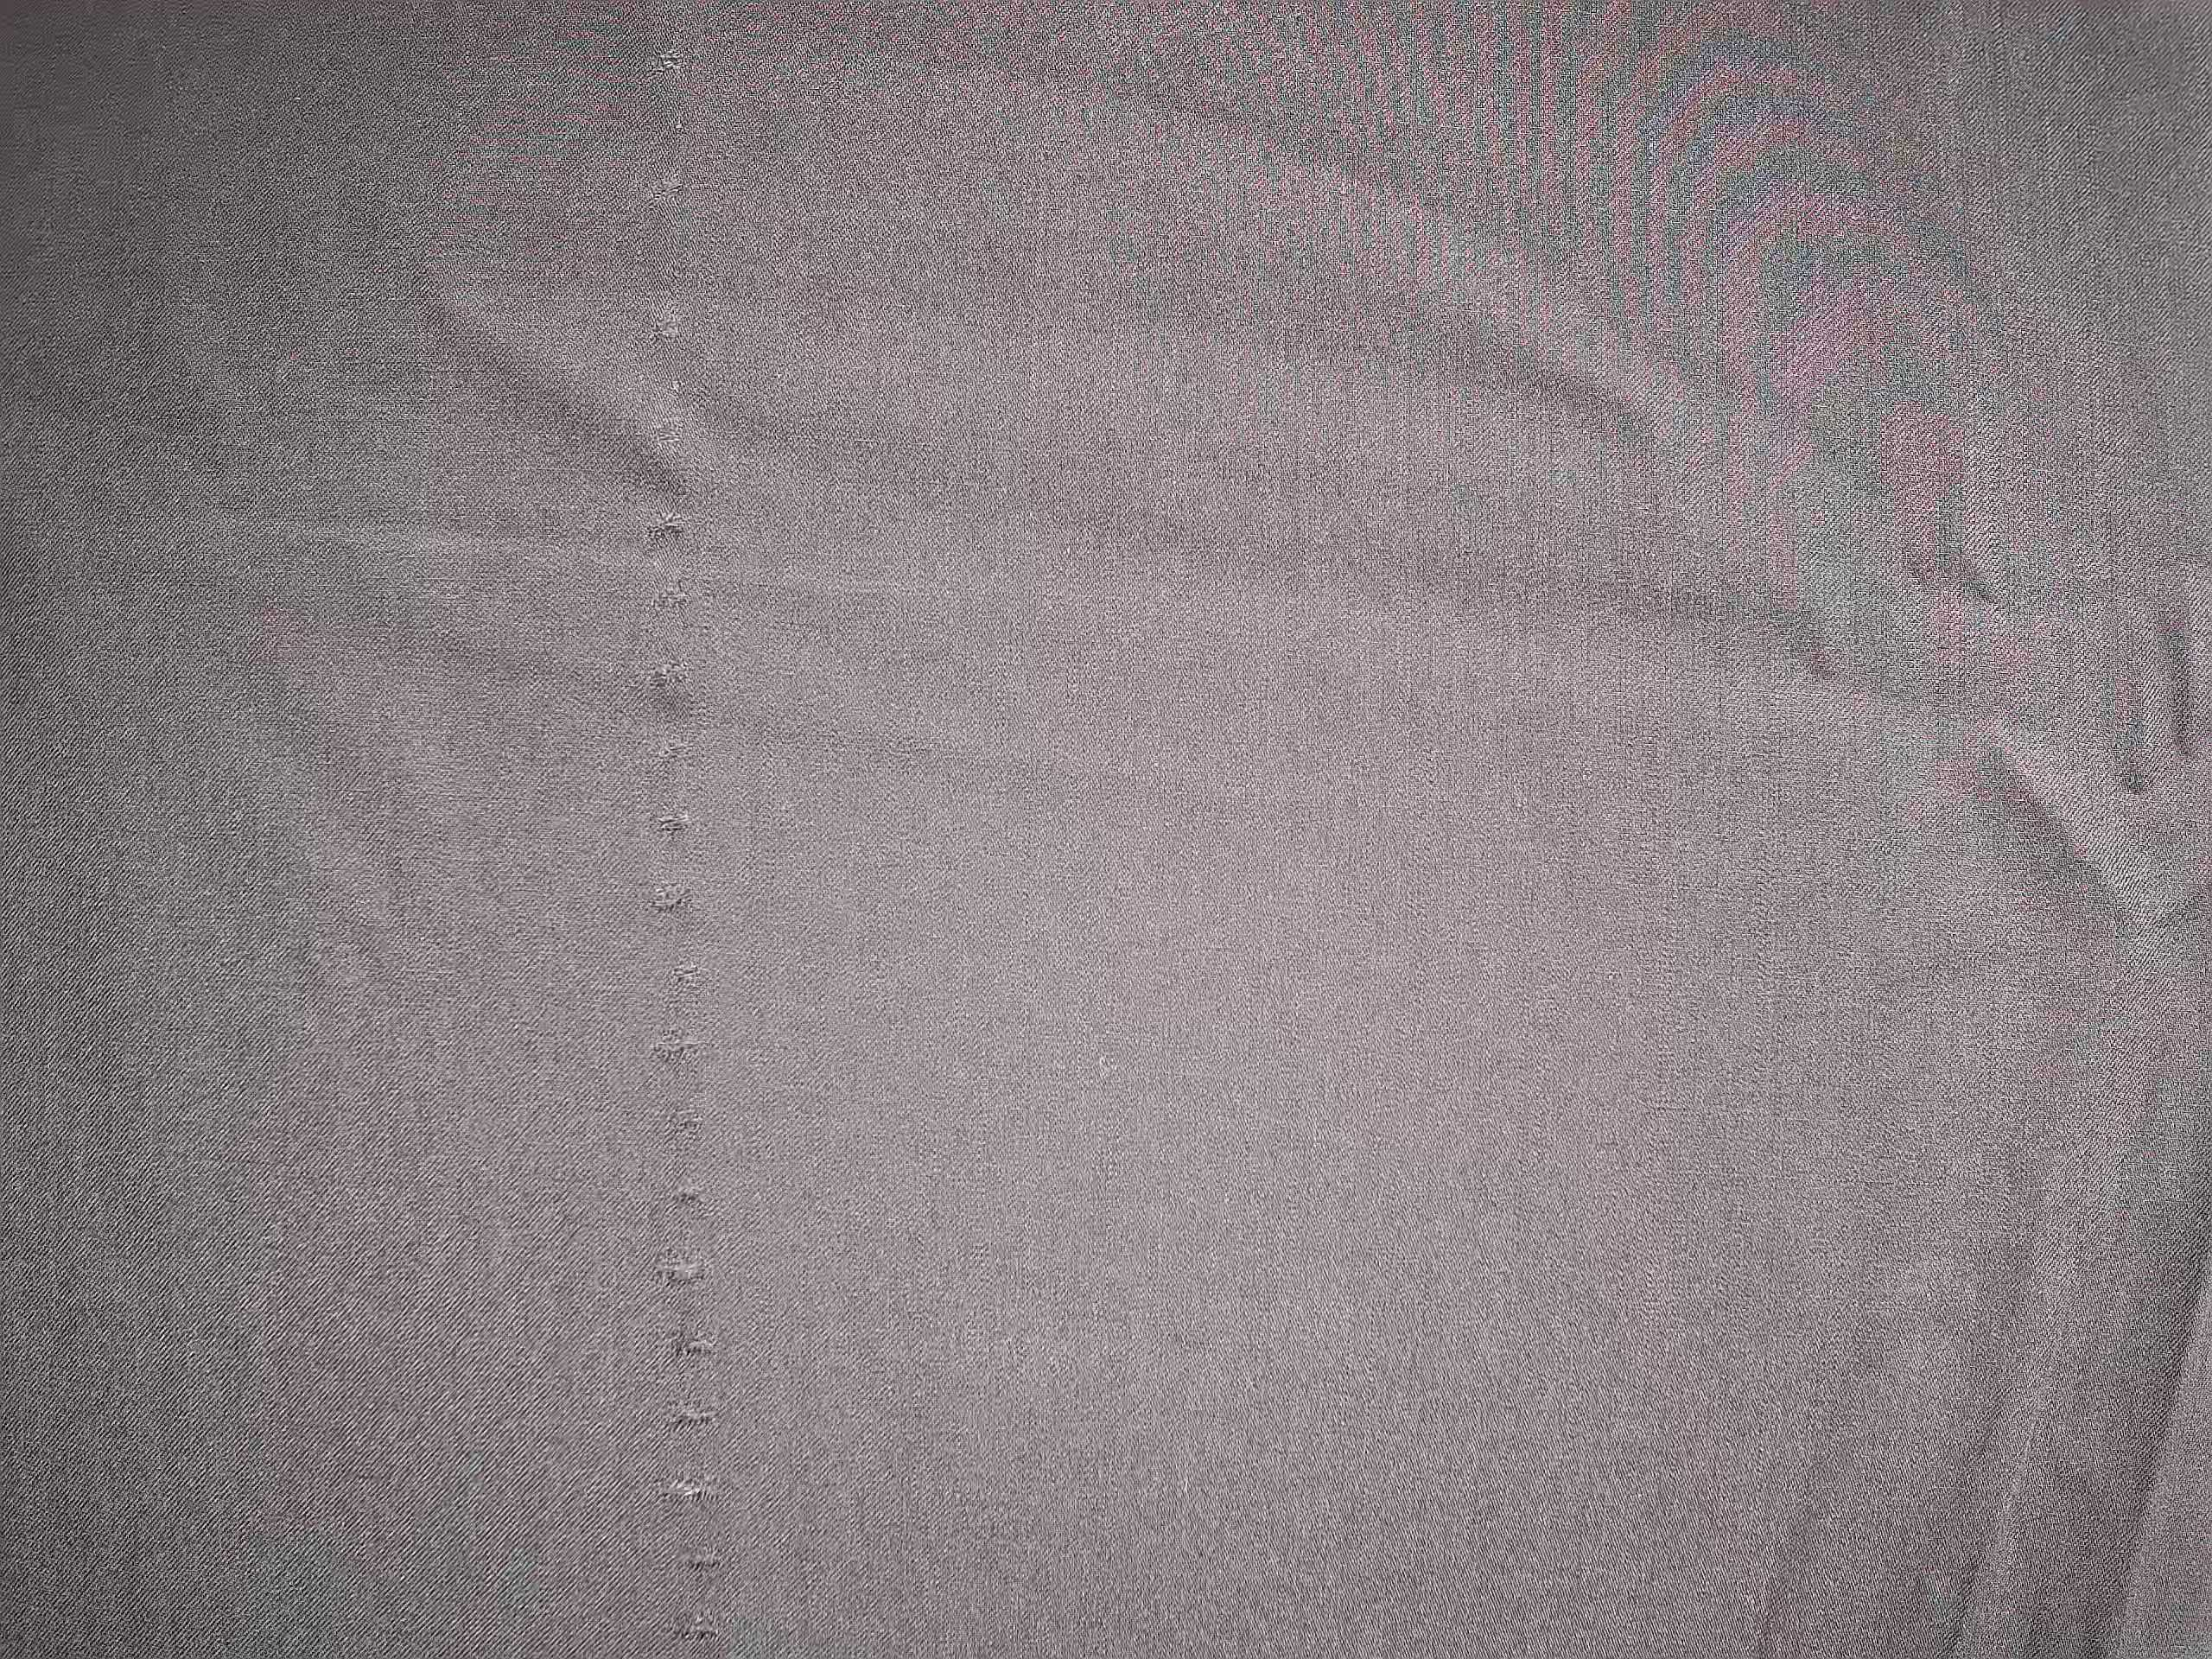puncture-hole: (637, 44, 751, 1647)
